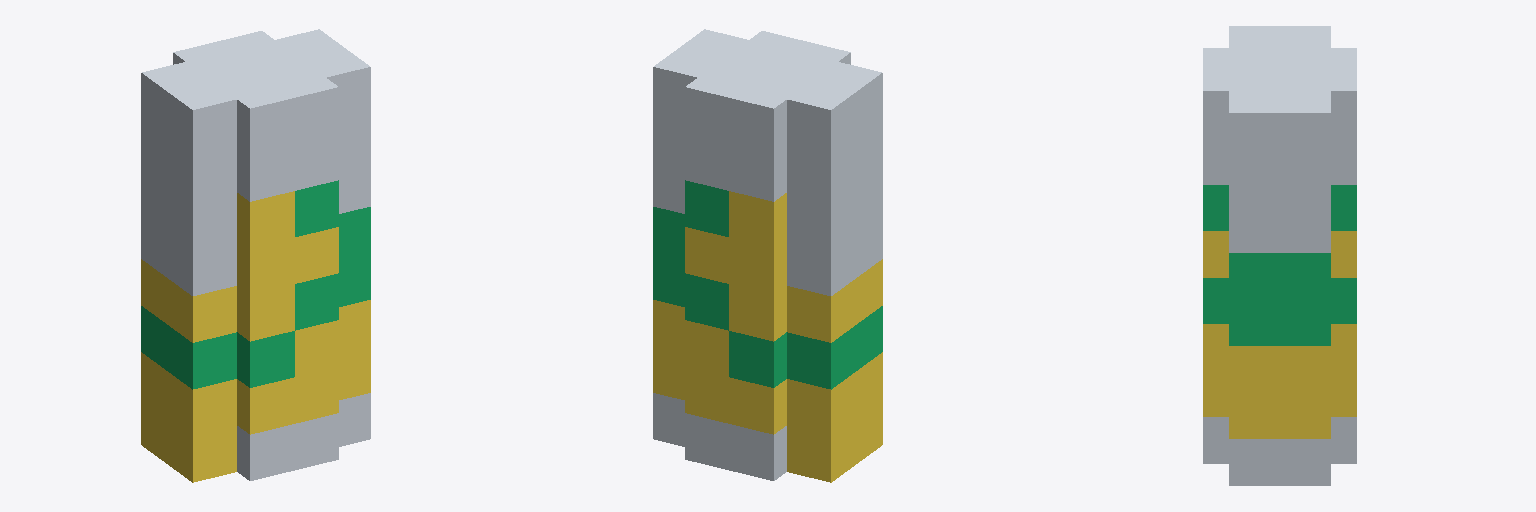
The model's file is mojito.obj.
3 renders of one model, left to right at view 1: azimuth 30°, elevation 25°; view 2: azimuth 150°, elevation 25°; view 3: azimuth 270°, elevation 25°, orthographic.
Size of the model in its own units: 4 by 8 by 3.